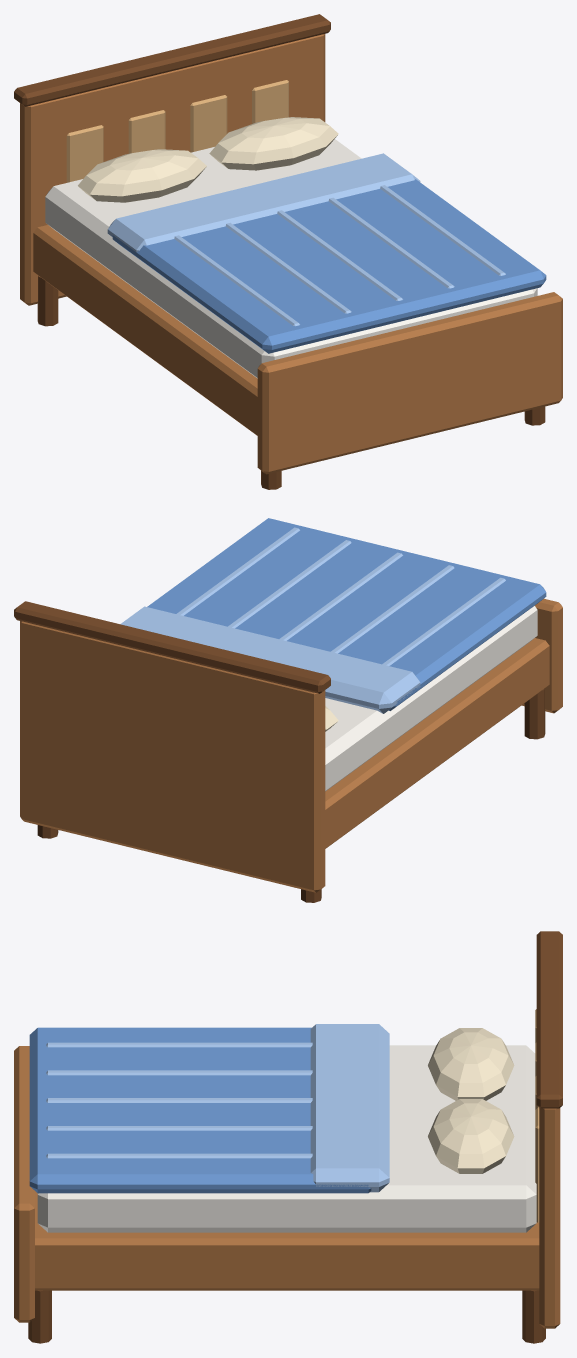
File: home_bed_v01.glb
The picture shows the model from 3 angles, top to bottom: view 1: azimuth 30°, elevation 25°; view 2: azimuth 150°, elevation 25°; view 3: azimuth 270°, elevation 25°; orthographic projection. The views are drawn at different scales.
Parts seen in each view (by area): view 1: bed; view 2: bed; view 3: bed.
Part boxes in pixels (x1,y1,x2,y2): bed: (14,14,562,489); bed: (14,518,562,902); bed: (14,931,562,1343).
Size of the model in its own units: 1.5 by 1.07 by 2.09.
